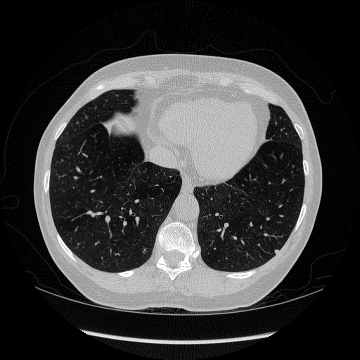nodule: (274, 249, 278, 253)
